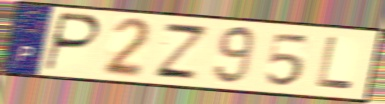2: (101, 16, 154, 79)
5: (263, 31, 313, 88)
9: (208, 24, 257, 87)
L: (314, 35, 356, 92)
P: (41, 11, 103, 74)
Z: (150, 21, 212, 82)
